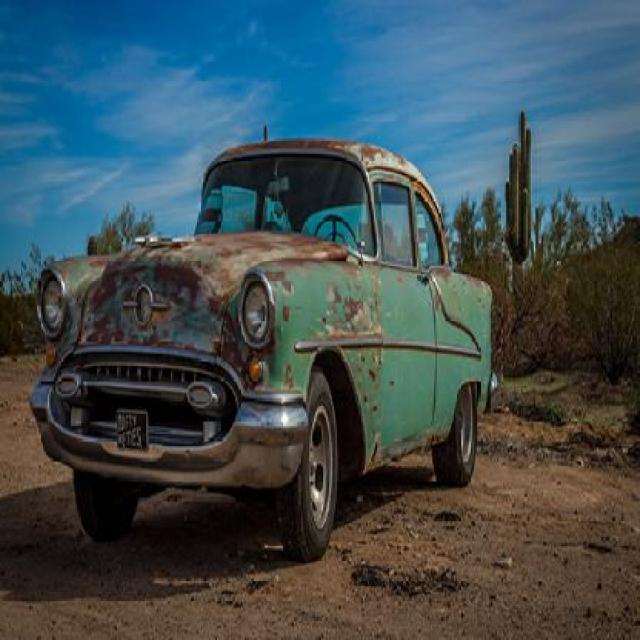corrosion: (29, 136, 500, 538)
